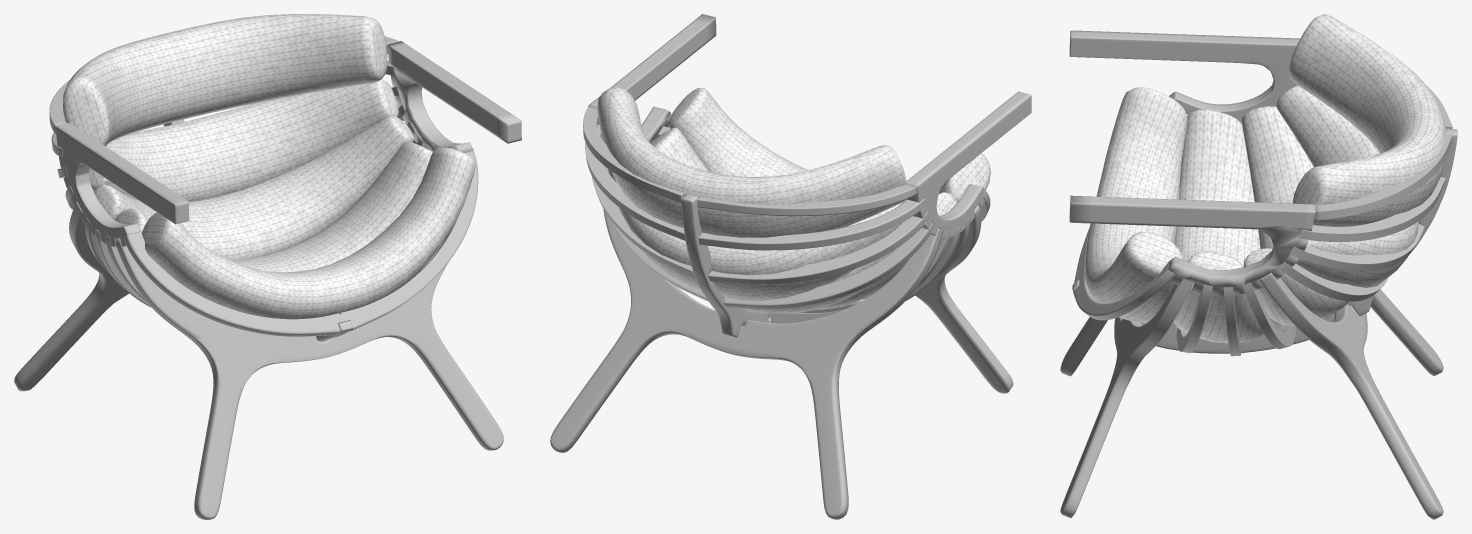
The model's file is CozyModernChair.fbx.
3 views of the same model, side by side, from view 1: azimuth 30°, elevation 25°; view 2: azimuth 150°, elevation 25°; view 3: azimuth 270°, elevation 25° (orthographic). The views are drawn at different scales.
Visible parts, largest first — view 1: Chair; view 2: Chair; view 3: Chair.
Boxes of the visible parts, bbox=[...] form: Chair: bbox=[14, 14, 521, 519]; Chair: bbox=[550, 14, 1031, 519]; Chair: bbox=[1060, 14, 1457, 519].
Bounding box in the file's own units: 218 × 211 × 211.
